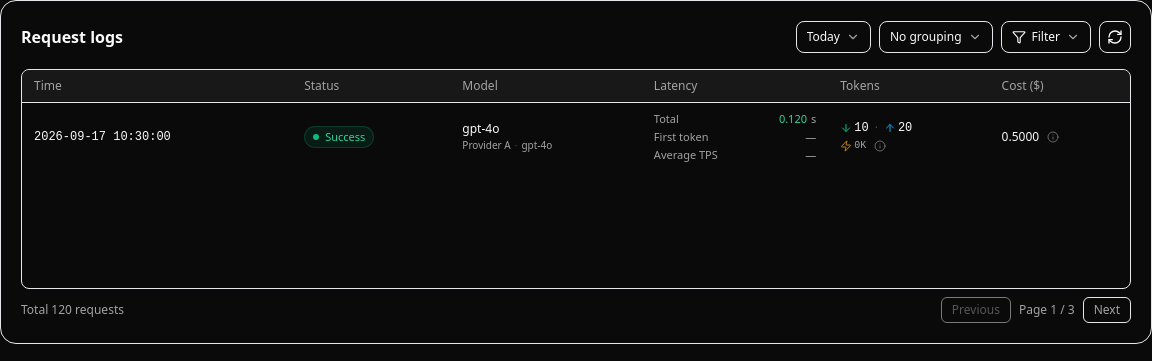
Test: UsageLogsPanel › 范围缩短导致页码越界时回到第 1 页且不显示空白页
expect the text "Page 1 / 3" is shown: met, box [1019, 302, 1075, 318]
Click the button "Next" at (1107, 310), box [1083, 297, 1131, 323]
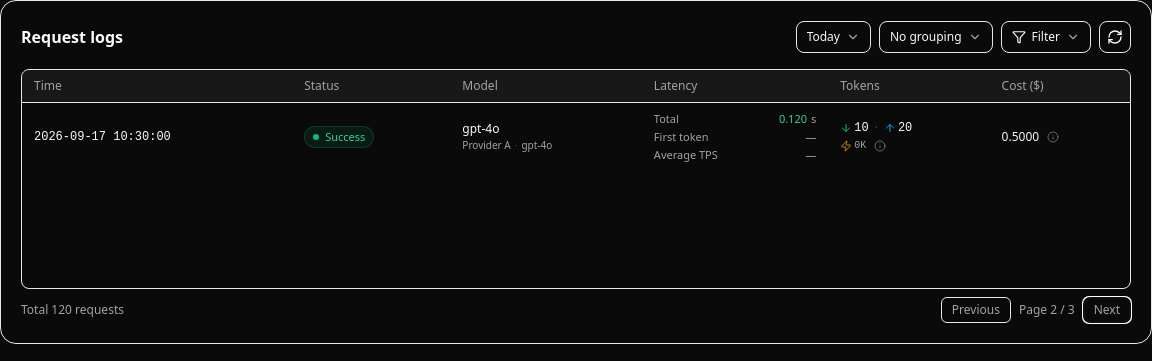
expect the text "Page 2 / 3" is shown: met, box [1019, 302, 1075, 318]
Click the button with test id "ai-gateway-logs-range-trigger" at (833, 37), box [796, 21, 871, 53]
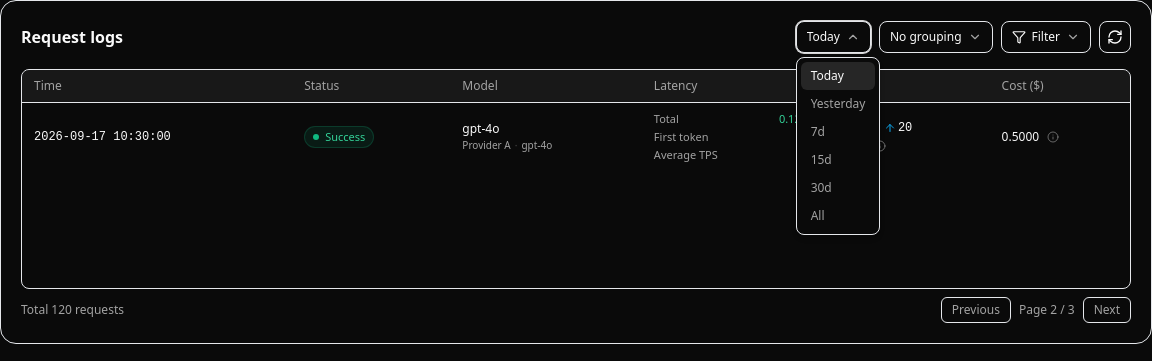
Click the option "Yesterday" at (838, 104), box [801, 90, 875, 118]
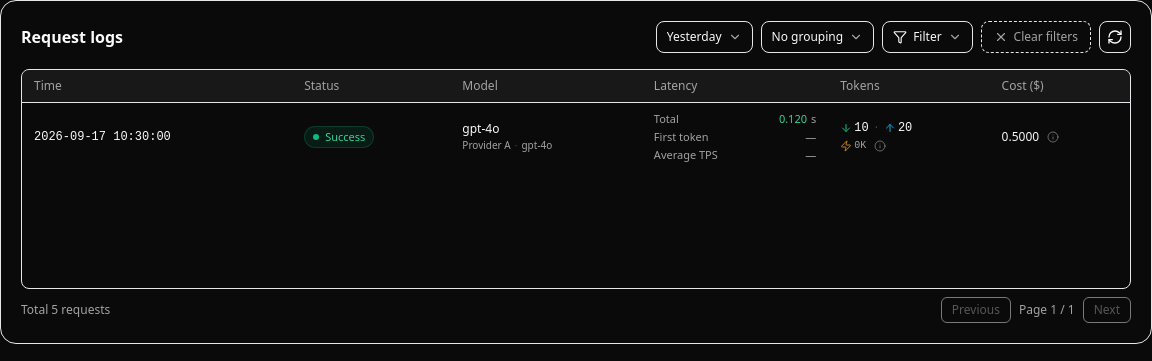
expect the button with test id "ai-gateway-logs-range-trigger" reads "Yesterday": met, box [656, 21, 753, 53]
expect the text "Page 1 / 1" is shown: met, box [1019, 302, 1075, 318]
